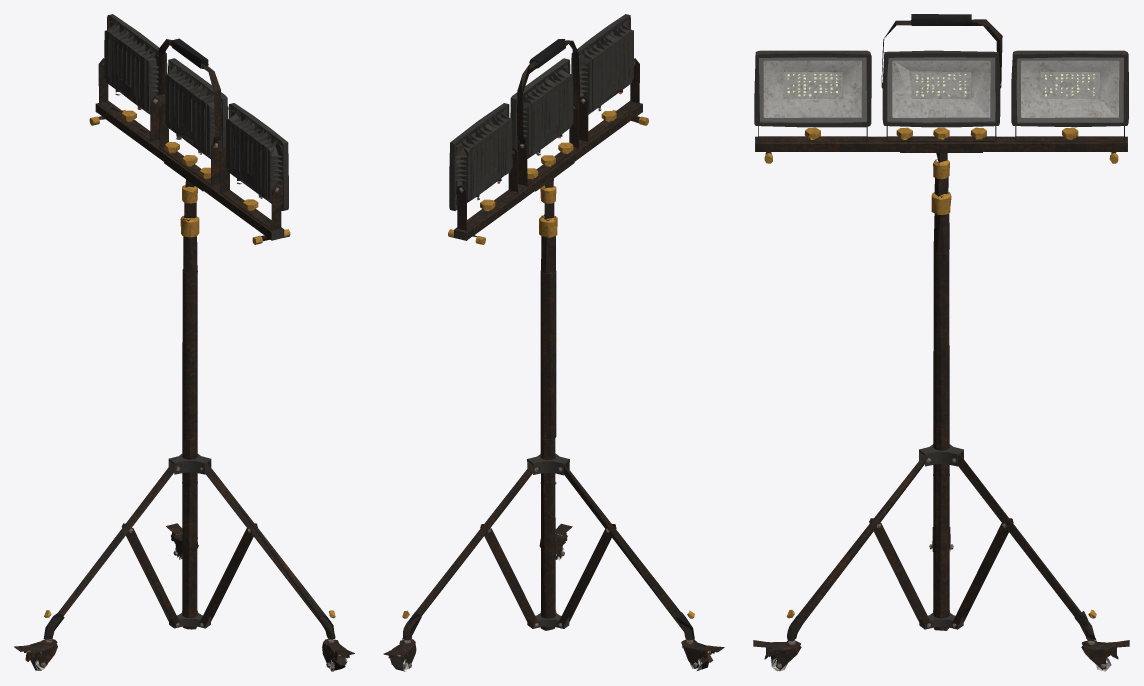
The model's file is park_floodlight.glb.
3 views of the same model, side by side, from view 1: azimuth 30°, elevation 25°; view 2: azimuth 150°, elevation 25°; view 3: azimuth 270°, elevation 25° (orthographic). The views are drawn at different scales.
Visible parts, largest first — view 1: park_floodlight; view 2: park_floodlight; view 3: park_floodlight.
Part boxes in pixels (x1=…): park_floodlight: x1=14, y1=14, x2=354, y2=671; park_floodlight: x1=383, y1=14, x2=724, y2=671; park_floodlight: x1=753, y1=14, x2=1129, y2=671.
Bounding box in the file's own units: 0.5602 × 1.23 × 0.6809.
10 materials, 8 textured.
